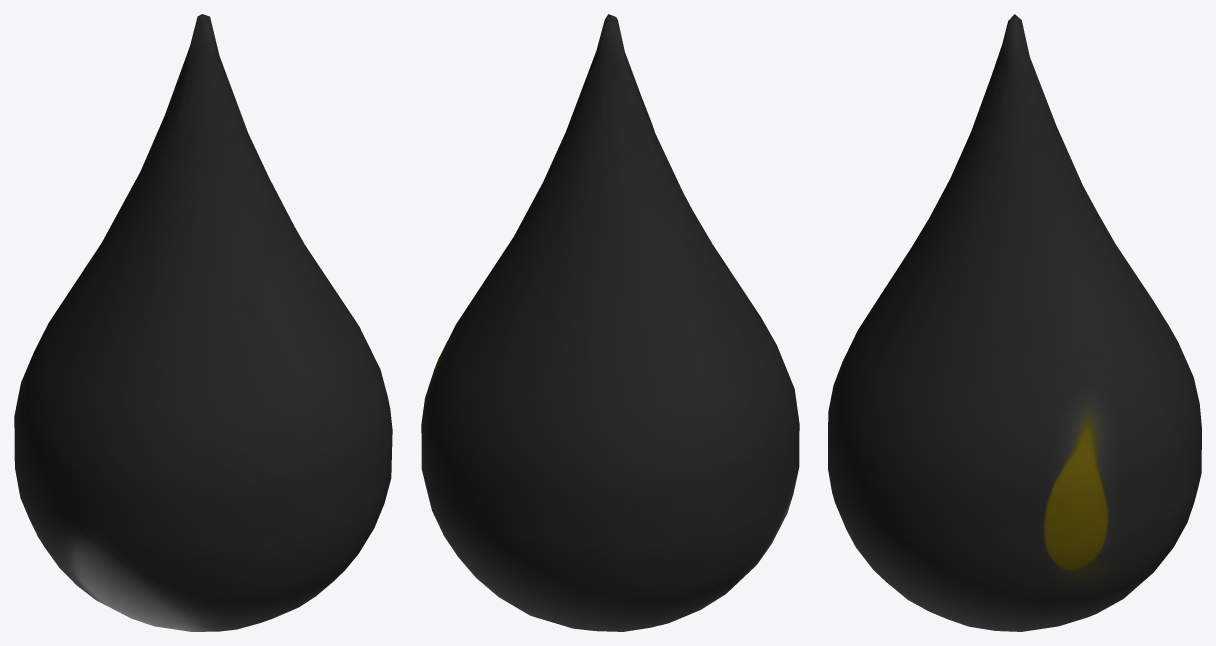
The model's file is TEAR4.fbx.
3 renders of one model, left to right at view 1: azimuth 30°, elevation 25°; view 2: azimuth 150°, elevation 25°; view 3: azimuth 270°, elevation 25°, orthographic.
Visible parts, largest first — view 1: tripo_node_ef3bd865_4275_4f0f_ae5a_8a884e6b6594; view 2: tripo_node_ef3bd865_4275_4f0f_ae5a_8a884e6b6594; view 3: tripo_node_ef3bd865_4275_4f0f_ae5a_8a884e6b6594.
Boxes of the visible parts, bbox=[...] form: tripo_node_ef3bd865_4275_4f0f_ae5a_8a884e6b6594: bbox=[14, 14, 392, 631]; tripo_node_ef3bd865_4275_4f0f_ae5a_8a884e6b6594: bbox=[421, 14, 799, 631]; tripo_node_ef3bd865_4275_4f0f_ae5a_8a884e6b6594: bbox=[828, 14, 1201, 631].
Bounding box in the file's own units: 2.89 × 2.89 × 5.09.
1 material, 1 textured.
